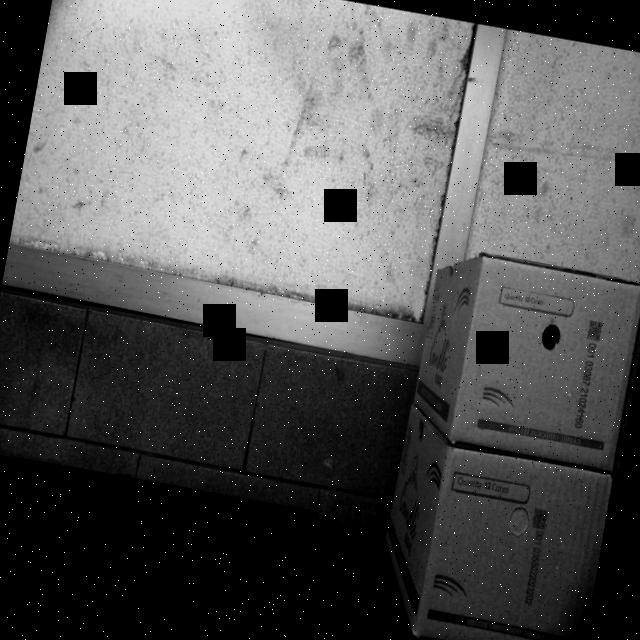box: (451, 259, 640, 469), (415, 447, 617, 640)
